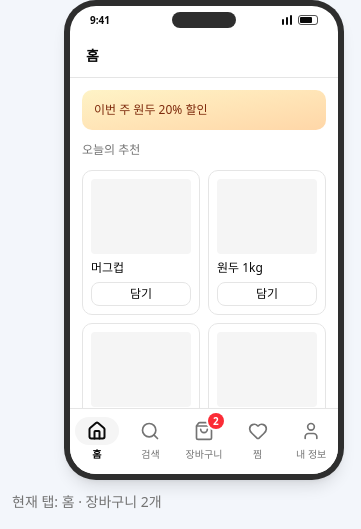
Scenario: bottom tab bar: switching tabs changes the screen, and the cart badge counts up
Expected: the number of links is 5, [75, 417, 119, 461]; [140, 421, 160, 461]; [186, 413, 224, 461]; [248, 421, 268, 461]; [296, 421, 326, 461]
Click the button with aria-label "머그컵 담기": click(141, 294) [91, 282, 191, 306]
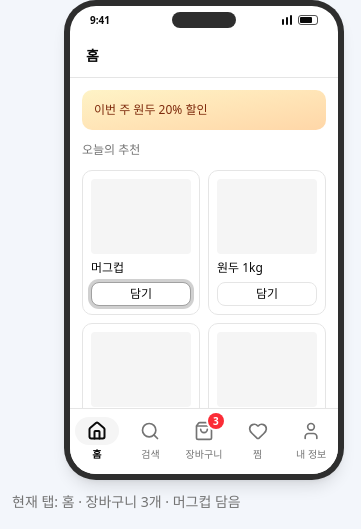
Expected: the message reads "현재 탭: 홈 · 장바구니 3개 · 머그컵 담음", [12, 492, 241, 512]
Click the link with aria-label "장바구니, 3개 담김": click(205, 437) [186, 413, 224, 461]
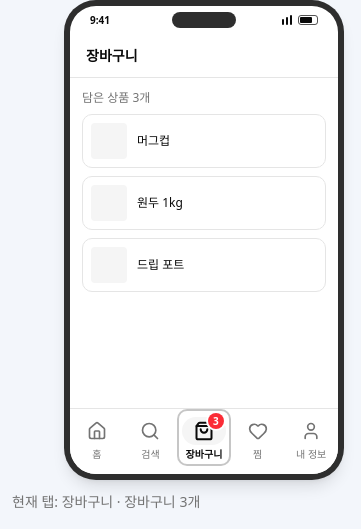
Expected: the text "담은 상품 3개" is shown, [82, 89, 150, 106]
Expected: the text "오늘의 추천" is gone
Click the link "내 정보": click(311, 441) [296, 421, 326, 461]
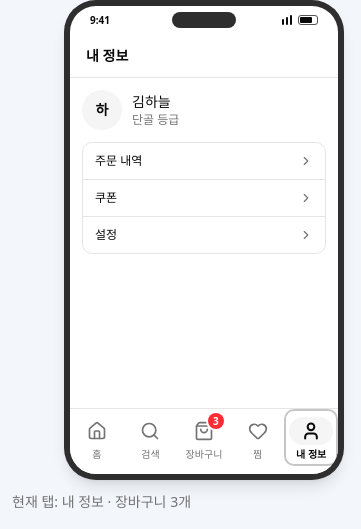
Expected: the text "단골 등급" is shown, [132, 112, 179, 128]
Expected: the message shows "현재 탭: 내 정보", [12, 492, 191, 512]
